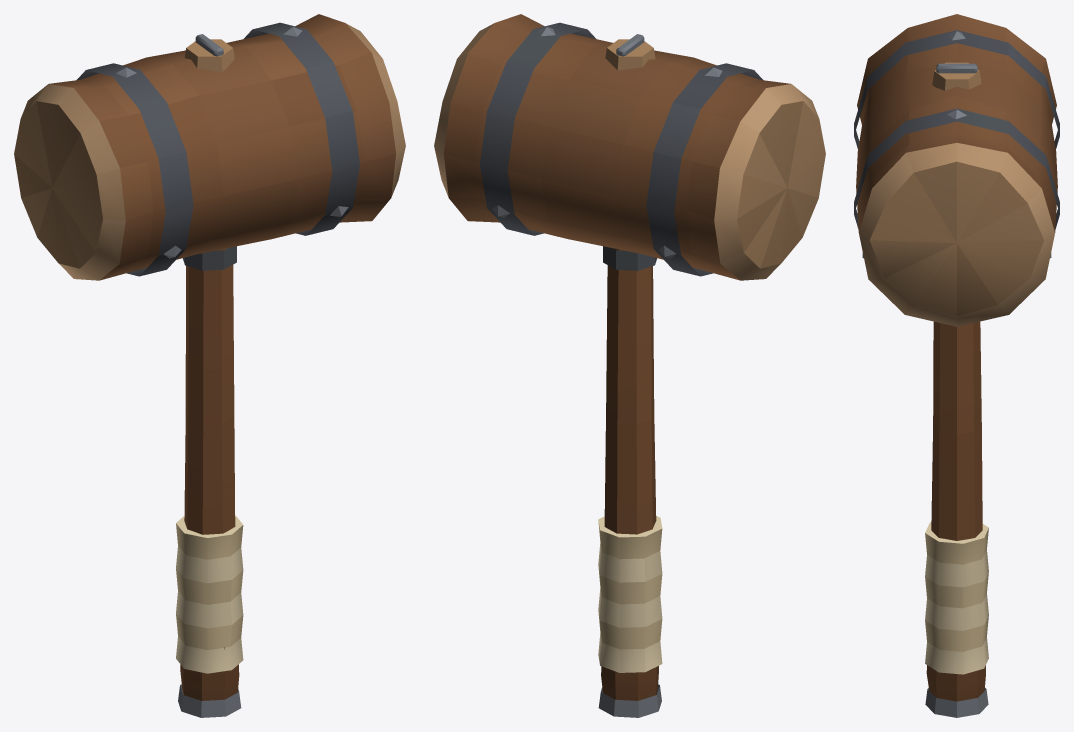
Rendered from muster_mallet.glb.
3 views of the same model, side by side, from view 1: azimuth 30°, elevation 25°; view 2: azimuth 150°, elevation 25°; view 3: azimuth 270°, elevation 25° (orthographic). The views are drawn at different scales.
Parts seen in each view (by area): view 1: MusterMallet; view 2: MusterMallet; view 3: MusterMallet.
Boxes of the visible parts, x1,y1,x2,y2 form: MusterMallet: (14,14,405,717); MusterMallet: (434,14,825,717); MusterMallet: (854,14,1059,717).
Size of the model in its own units: 0.8561 by 1.72 by 0.5028.
